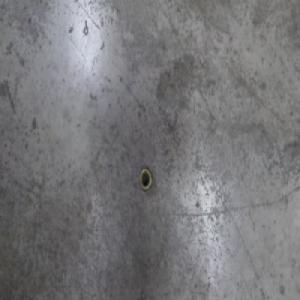Nut: (139, 166, 152, 193)
